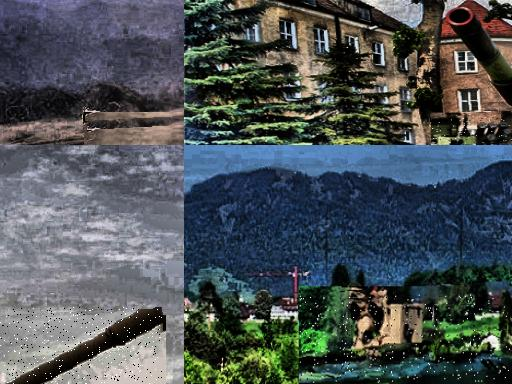tanks: (301, 296, 511, 384), (6, 308, 162, 384), (448, 9, 512, 108), (433, 115, 512, 144)
